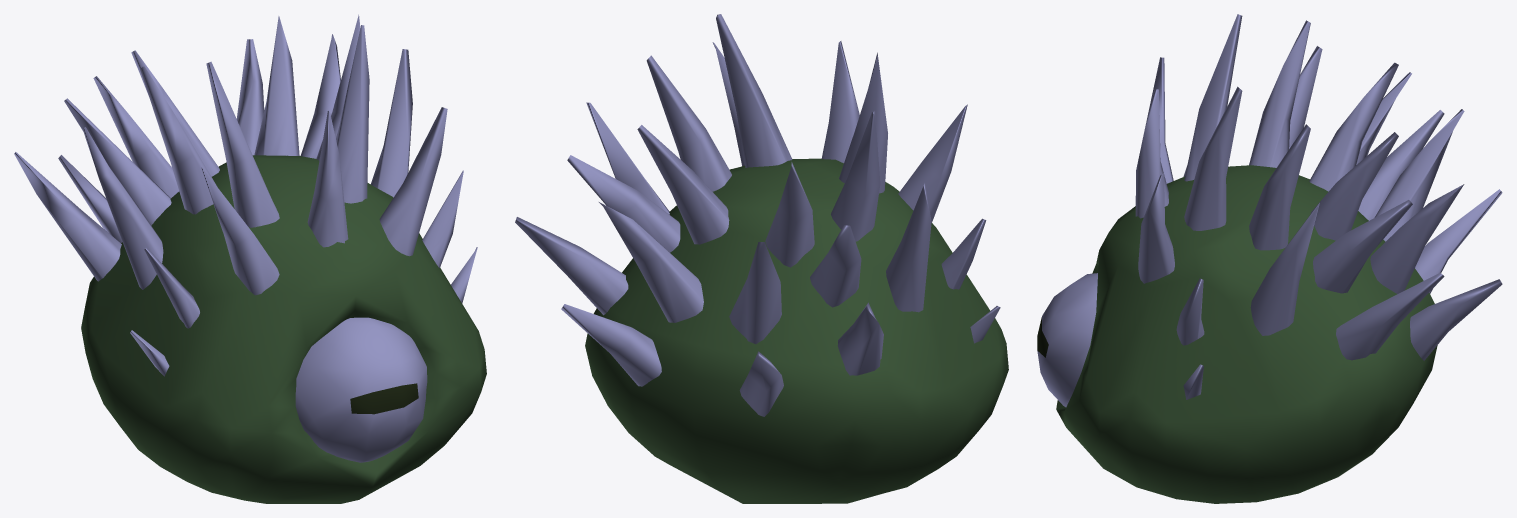
Rendered from enemy-limon.glb.
The picture shows the model from 3 angles, left to right: view 1: azimuth 30°, elevation 25°; view 2: azimuth 150°, elevation 25°; view 3: azimuth 270°, elevation 25°; orthographic projection. The views are drawn at different scales.
Parts seen in each view (by area): view 1: enemy:limon; view 2: enemy:limon; view 3: enemy:limon.
Part boxes in pixels (x1,y1,x2,y2): enemy:limon: (14,14,486,503); enemy:limon: (515,14,1008,503); enemy:limon: (1037,14,1502,503).
Bounding box in the file's own units: 0.6715 × 0.8 × 0.7834.
1 material, 1 textured.
